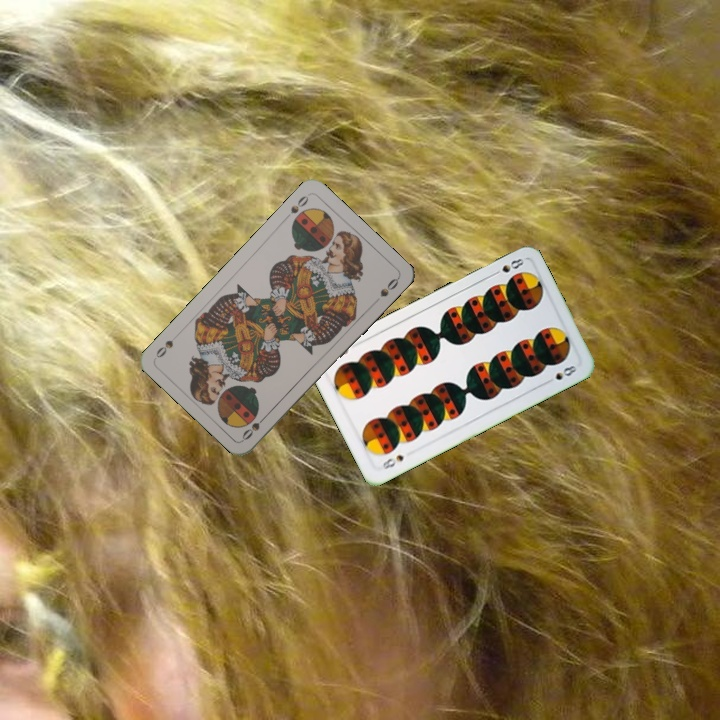S8: (488, 254, 527, 279), (379, 450, 407, 472)
SO: (238, 410, 270, 443), (286, 191, 311, 216)
